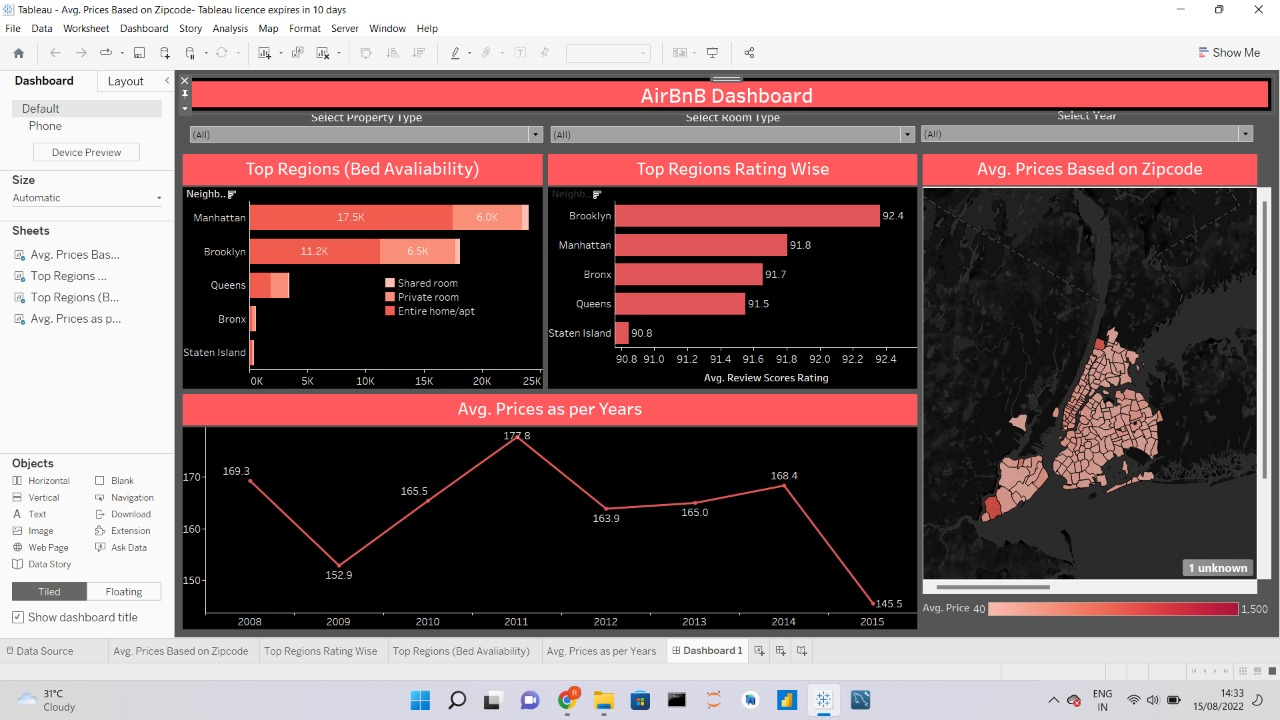

The dashboard page shown, as its layout file describes it:
{"tool":"tableau","page":{"name":"Dashboard 1","canvas":[1000,1000],"units":"permille","ordinal":0},"visuals":[{"type":"title","box":[5.4,9.4,989.3,67]},{"type":"filter","title":"Top Regions Rating Wise","param":"[federated.1jtrfh608y2grq12gvyoc1twn1jq].[yr:Host Since:ok]","box":[674.2,64.6,304.4,68.2]},{"type":"filter","title":"Top Regions Rating Wise","param":"[federated.1jtrfh608y2grq12gvyoc1twn1jq].[none:Property Type:nk]","box":[12,68.2,323.8,61.1]},{"type":"filter","title":"Top Regions (Bed Avaliability)","param":"[federated.1jtrfh608y2grq12gvyoc1twn1jq].[none:Room Type:nk]","box":[338.5,68.2,333.8,62.3]},{"type":"image","box":[5.4,76.4,989.3,66.8]},{"type":"worksheet","title":"Top Regions (Bed Avaliability)","mark":"Automatic","rows":["Neighbourhood"],"cols":["Beds"],"box":[5.4,143.1,330.1,423.7]},{"type":"worksheet","title":"Top Regions Rating Wise","mark":"Automatic","rows":["Neighbourhood"],"cols":["Review Scores Rating"],"box":[335.4,143.1,339.2,423.7]},{"type":"worksheet","title":"Avg. Prices Based on Zipcode","mark":"Automatic","box":[674.6,143.1,320.1,785.5]},{"type":"legend","title":"Top Regions (Bed Avaliability)","param":"[federated.1jtrfh608y2grq12gvyoc1twn1jq].[none:Room Type:nk]","box":[188.6,363.1,118.4,99.9]},{"type":"worksheet","title":"Avg. Prices as per Years","mark":"Automatic","rows":["Price"],"cols":["Host Since"],"box":[5.4,566.8,669.2,423.8]},{"type":"legend","title":"Avg. Prices Based on Zipcode","param":"[federated.1jtrfh608y2grq12gvyoc1twn1jq].[avg:Price:qk]","box":[674.6,928.7,320.1,61.9]}]}

Visuals, with their boxes on the dashboard's canvas, which has no fixed pixel size, in thousandths of its width and height (x1, y1, x2, y2). These are canvas units, not pixel positions in the 1280x720 screenshot, which may show the page scaled, cropped or inside an application window:
title: 5, 9, 995, 76
"Top Regions Rating Wise" filter: 674, 65, 979, 133
"Top Regions Rating Wise" filter: 12, 68, 336, 129
"Top Regions (Bed Avaliability)" filter: 338, 68, 672, 130
image: 5, 76, 995, 143
"Top Regions (Bed Avaliability)" worksheet: 5, 143, 336, 567
"Top Regions Rating Wise" worksheet: 335, 143, 675, 567
"Avg. Prices Based on Zipcode" worksheet: 675, 143, 995, 929
"Top Regions (Bed Avaliability)" legend: 189, 363, 307, 463
"Avg. Prices as per Years" worksheet: 5, 567, 675, 991
"Avg. Prices Based on Zipcode" legend: 675, 929, 995, 991
